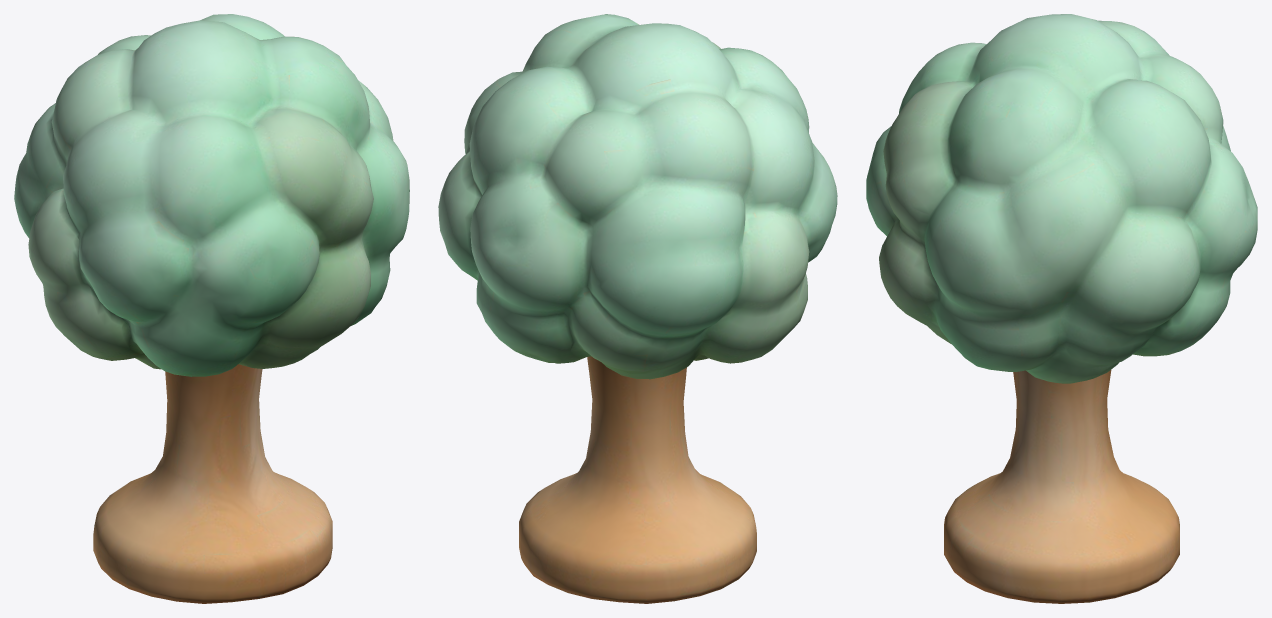
File: tree-round.glb
3 renders of one model, left to right at view 1: azimuth 30°, elevation 25°; view 2: azimuth 150°, elevation 25°; view 3: azimuth 270°, elevation 25°, orthographic.
Visible parts, largest first — view 1: tripo_node_2d546746-3ffa-48d0-9138-5252c1bd86d2; view 2: tripo_node_2d546746-3ffa-48d0-9138-5252c1bd86d2; view 3: tripo_node_2d546746-3ffa-48d0-9138-5252c1bd86d2.
Boxes of the visible parts, x1,y1,x2,y2 form: tripo_node_2d546746-3ffa-48d0-9138-5252c1bd86d2: (14, 14, 409, 603); tripo_node_2d546746-3ffa-48d0-9138-5252c1bd86d2: (438, 14, 837, 603); tripo_node_2d546746-3ffa-48d0-9138-5252c1bd86d2: (866, 14, 1257, 603).
Bounding box in the file's own units: 0.6582 × 0.9981 × 0.67.
1 material, 1 textured.
